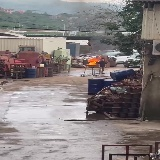fire: (86, 56, 101, 65)
